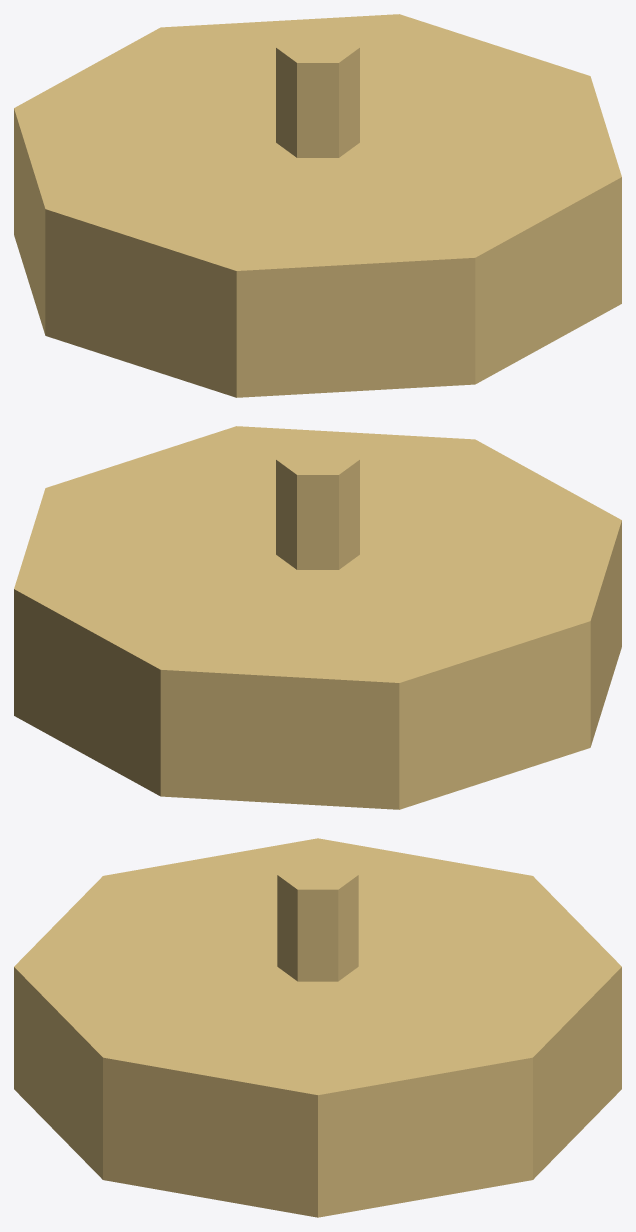
Rendered from prop-mainspring-barrel-blank.fbx.
3 renders of one model, top to bottom at view 1: azimuth 30°, elevation 25°; view 2: azimuth 150°, elevation 25°; view 3: azimuth 270°, elevation 25°, orthographic. The views are drawn at different scales.
Visible parts, largest first — view 1: prop-mainspring-barrel-blank; view 2: prop-mainspring-barrel-blank; view 3: prop-mainspring-barrel-blank.
Boxes of the visible parts, x1,y1,x2,y2 form: prop-mainspring-barrel-blank: (14,14,621,397); prop-mainspring-barrel-blank: (14,426,621,809); prop-mainspring-barrel-blank: (14,838,621,1217).
Size of the model in its own units: 1.8 by 0.7 by 1.8.
